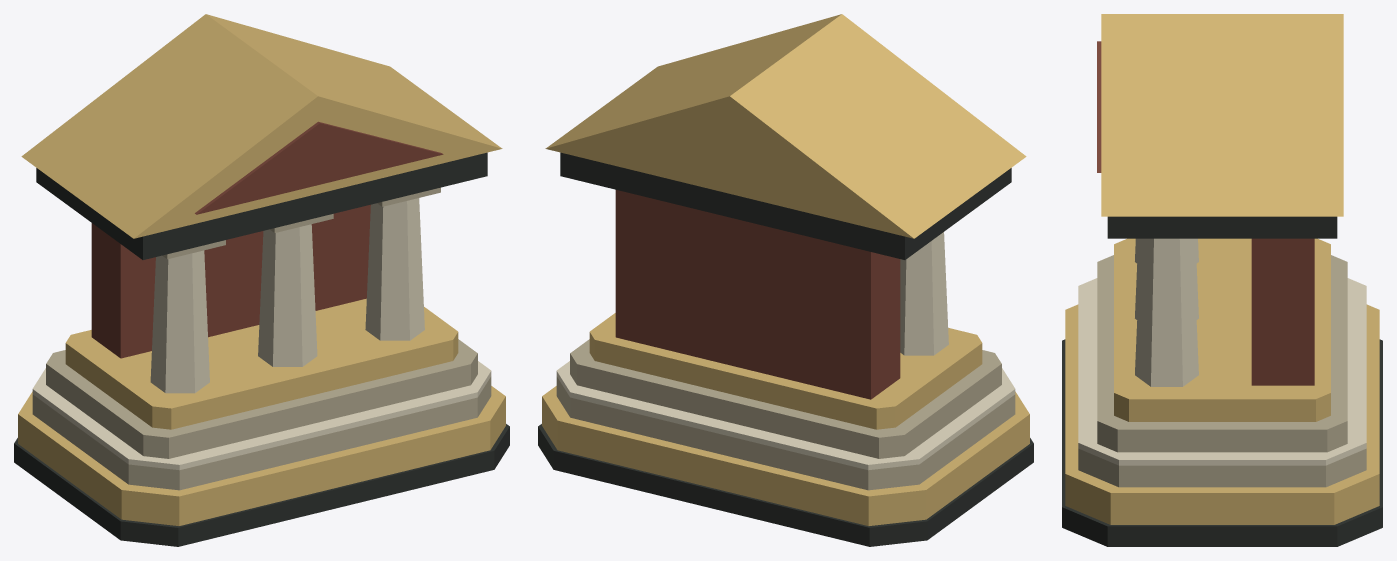
Rendered from inst.glb.
3 views of the same model, side by side, from view 1: azimuth 30°, elevation 25°; view 2: azimuth 150°, elevation 25°; view 3: azimuth 270°, elevation 25° (orthographic). The views are drawn at different scales.
Parts seen in each view (by area): view 1: Columned portico; view 2: Columned portico; view 3: Columned portico.
Boxes of the visible parts, x1,y1,x2,y2 form: Columned portico: (14, 14, 509, 546); Columned portico: (538, 14, 1033, 546); Columned portico: (1062, 14, 1382, 546).
Size of the model in its own units: 1.92 by 1.88 by 1.27.
